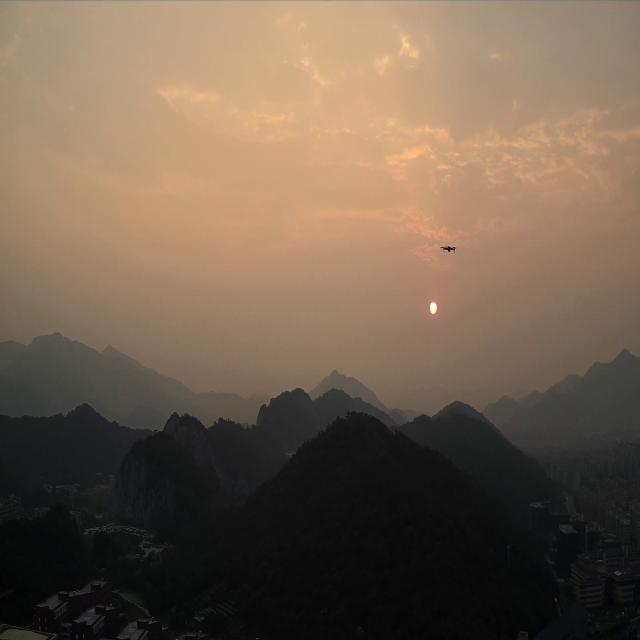UAV: (440, 245, 458, 253)
